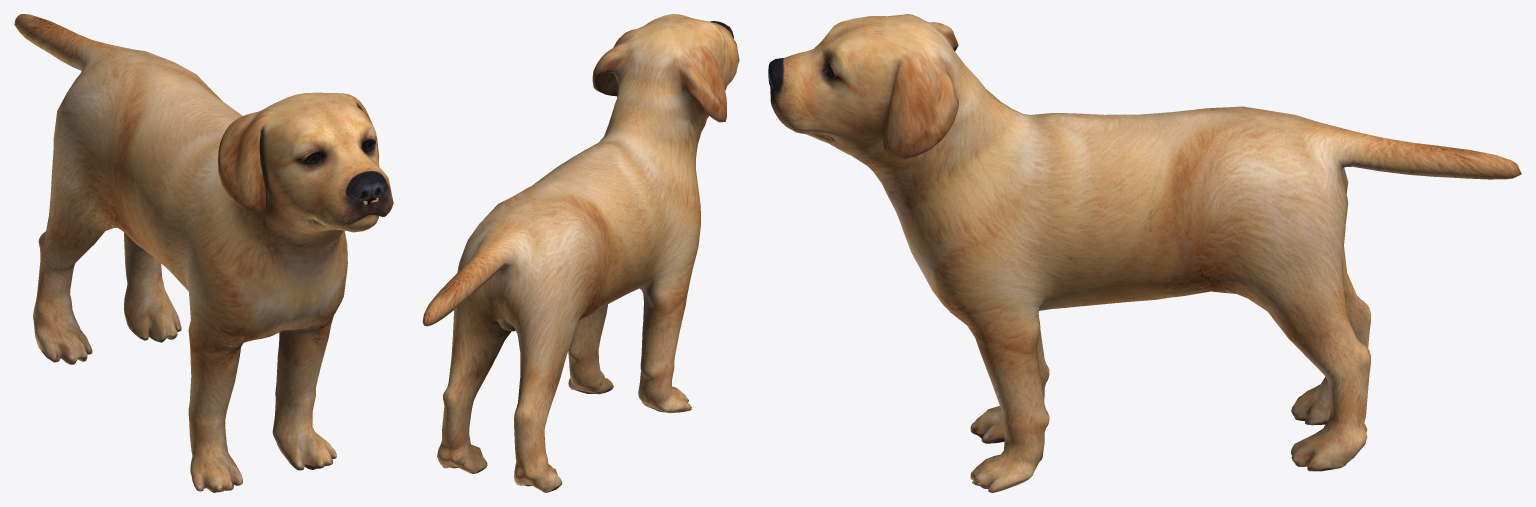
File: dog.fbx
3 views of the same model, side by side, from view 1: azimuth 30°, elevation 25°; view 2: azimuth 150°, elevation 25°; view 3: azimuth 270°, elevation 25° (orthographic). The views are drawn at different scales.
Parts seen in each view (by area): view 1: Dog_body; view 2: Dog_body; view 3: Dog_body.
Boxes of the visible parts, x1,y1,x2,y2 form: Dog_body: (14,14,393,492); Dog_body: (422,14,739,492); Dog_body: (768,14,1521,492).
Size of the model in its own units: 0.4565 by 1.19 by 1.86.
Materials: 1 (1 with a texture image).
